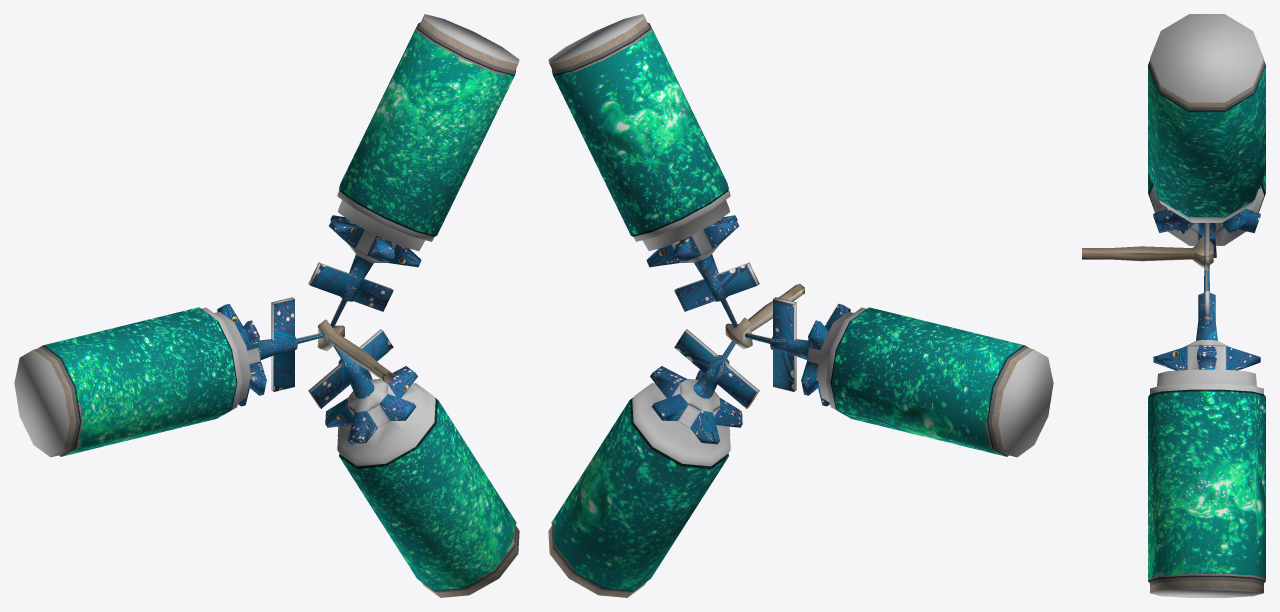
Rendered from AlmacenamientoBio1_01.fbx.
3 renders of one model, left to right at view 1: azimuth 30°, elevation 25°; view 2: azimuth 150°, elevation 25°; view 3: azimuth 270°, elevation 25°, orthographic. The views are drawn at different scales.
Visible parts, largest first — view 1: MatBio1_002; view 2: MatBio1_002; view 3: MatBio1_002.
Boxes of the visible parts, bbox=[...] form: MatBio1_002: bbox=[14, 14, 519, 597]; MatBio1_002: bbox=[548, 14, 1053, 597]; MatBio1_002: bbox=[1082, 14, 1265, 597].
Bounding box in the file's own units: 0.9373 × 1.08 × 0.3088.
1 material, 1 textured.
